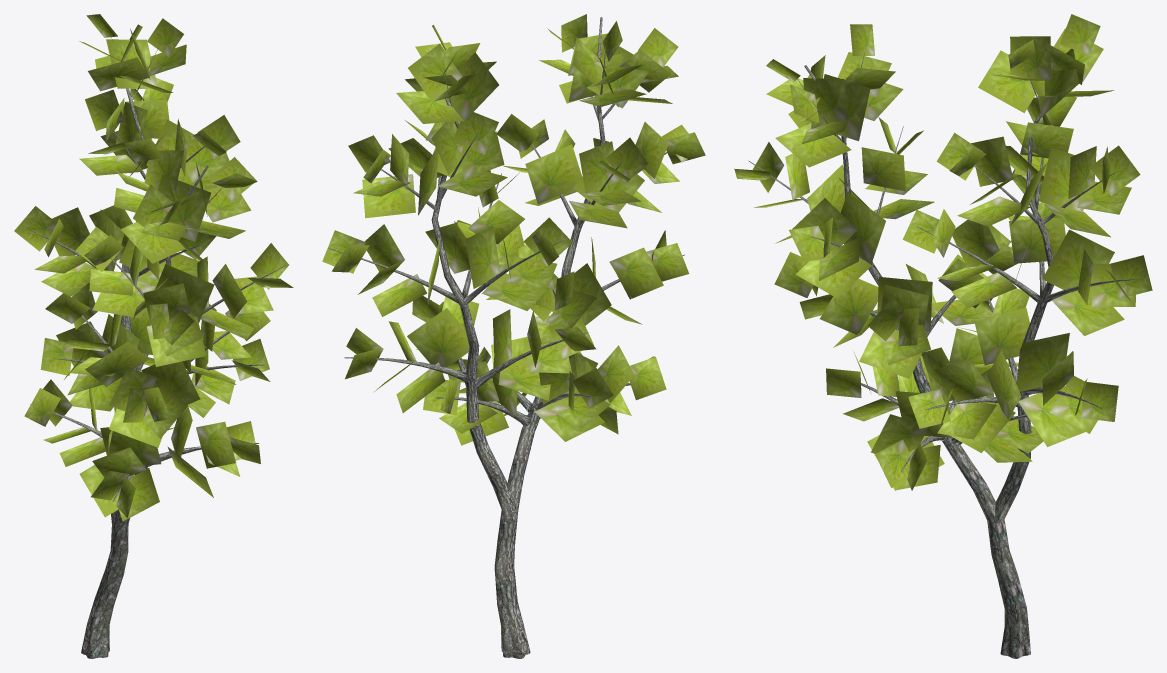
File: Tree_green_leaves.fbx
The picture shows the model from 3 angles, left to right: view 1: azimuth 30°, elevation 25°; view 2: azimuth 150°, elevation 25°; view 3: azimuth 270°, elevation 25°; orthographic projection. The views are drawn at different scales.
Visible parts, largest first — view 1: Tree_1, Tree_0; view 2: Tree_1, Tree_0; view 3: Tree_1, Tree_0.
Boxes of the visible parts, x1=… form: Tree_1: x1=14, y1=14, x2=293, y2=521; Tree_0: x1=29, y1=37, x2=285, y2=658; Tree_1: x1=322, y1=14, x2=705, y2=445; Tree_0: x1=329, y1=17, x2=684, y2=658; Tree_1: x1=734, y1=14, x2=1152, y2=490; Tree_0: x1=748, y1=45, x2=1136, y2=658.
Bounding box in the file's own units: 60.15 × 157 × 91.09.
2 materials, 2 textured.
